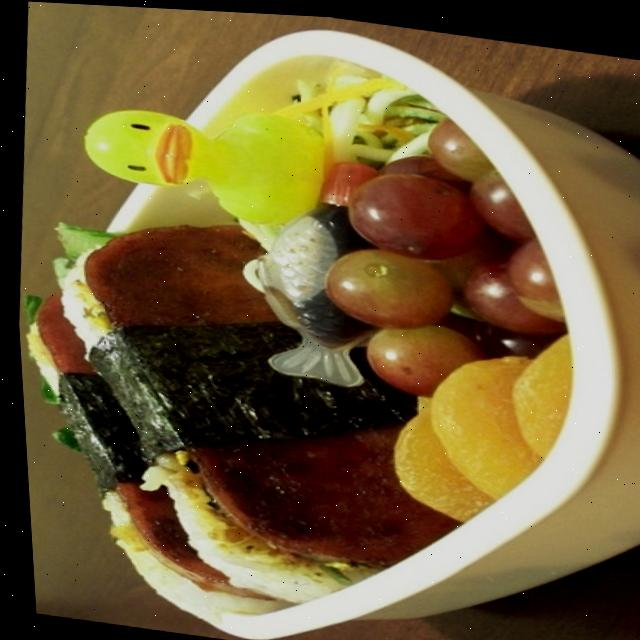寿司卷物: (1, 21, 629, 640)
